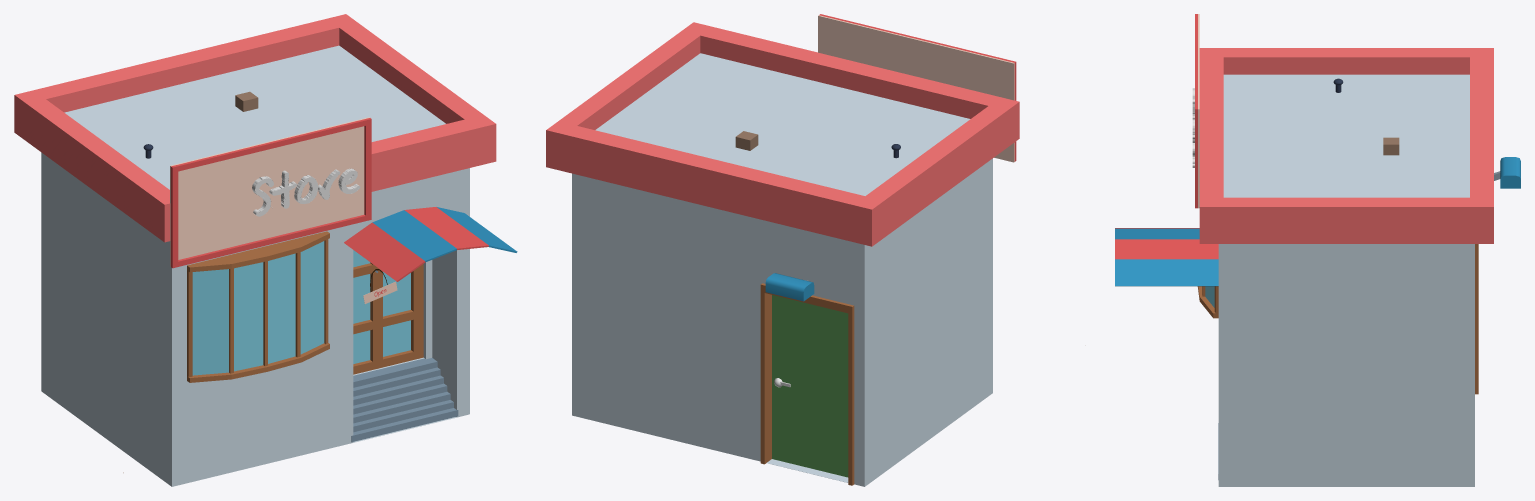
The model's file is Store.fbx.
3 views of the same model, side by side, from view 1: azimuth 30°, elevation 25°; view 2: azimuth 150°, elevation 25°; view 3: azimuth 270°, elevation 25° (orthographic).
Visible parts, largest first — view 1: Box001, Box012, Box020, Box011, Object006, Object002, Object003, Object004, Object005, Box009, Text, Box008 (+6 smaller); view 2: Box001, Box012, Object012, Box020, Object011, Box018, Object002; view 3: Box001, Box012, Box009, Object003, Box018, Object011, Object002.
Part boxes in pixels (x1=…): Box001: x1=41, y1=45, x2=469, y2=486; Box012: x1=14, y1=14, x2=496, y2=242; Box020: x1=170, y1=117, x2=369, y2=266; Box011: x1=192, y1=241, x2=324, y2=375; Object006: x1=187, y1=231, x2=329, y2=382; Object002: x1=171, y1=118, x2=371, y2=268; Object003: x1=344, y1=207, x2=488, y2=281; Object004: x1=353, y1=262, x2=423, y2=374; Object005: x1=353, y1=250, x2=410, y2=363; Box009: x1=372, y1=207, x2=517, y2=261; Text: x1=252, y1=168, x2=360, y2=216; Box008: x1=351, y1=408, x2=458, y2=442; Box001: x1=572, y1=53, x2=992, y2=486; Box012: x1=546, y1=22, x2=1019, y2=246; Object012: x1=772, y1=295, x2=848, y2=477; Box020: x1=818, y1=15, x2=1014, y2=162; Object011: x1=760, y1=283, x2=854, y2=485; Box018: x1=765, y1=273, x2=814, y2=301; Object002: x1=819, y1=14, x2=1016, y2=161; Box001: x1=1218, y1=74, x2=1474, y2=486; Box012: x1=1199, y1=48, x2=1493, y2=243; Box009: x1=1115, y1=228, x2=1218, y2=286; Object003: x1=1115, y1=228, x2=1218, y2=259; Box018: x1=1500, y1=157, x2=1520, y2=188; Object011: x1=1475, y1=244, x2=1478, y2=394; Object002: x1=1195, y1=14, x2=1197, y2=208.
Size of the model in its own units: 4.62 by 3.78 by 4.28.
